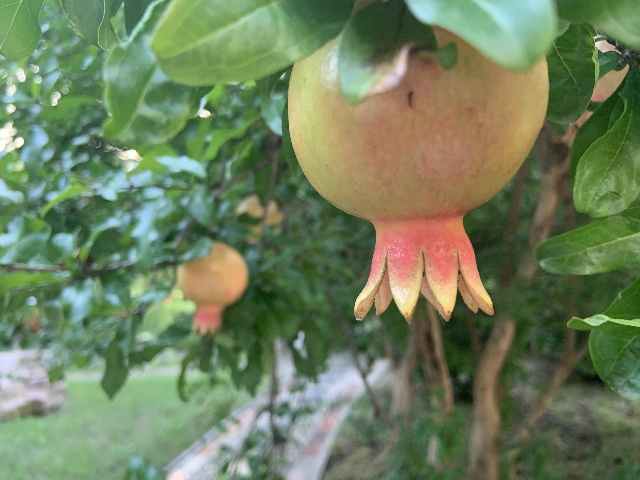mid-growth: (287, 9, 549, 328), (177, 242, 248, 336)
